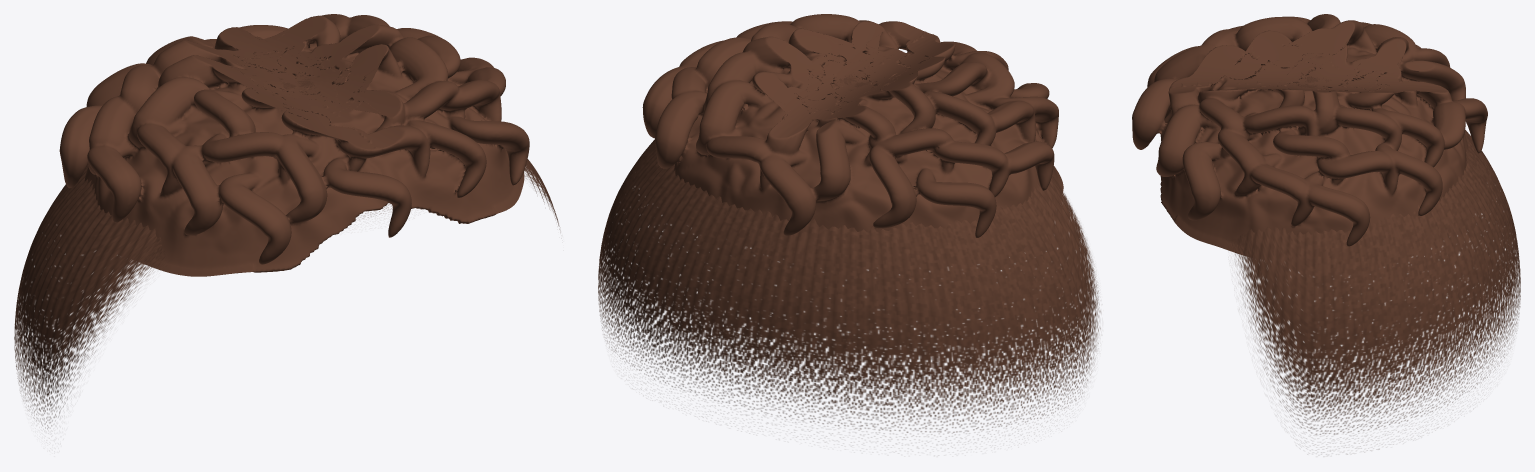
Rendered from Masculine-curly-top-cowboy256-hair.glb.
The picture shows the model from 3 angles, left to right: view 1: azimuth 30°, elevation 25°; view 2: azimuth 150°, elevation 25°; view 3: azimuth 270°, elevation 25°; orthographic projection. The views are drawn at different scales.
Visible parts, largest first — view 1: 226 hair / Hair252 / sculpted curl groups, 226 hair / Hair256 / selected B sides; view 2: 226 hair / Hair256 / selected B sides, 226 hair / Hair252 / sculpted curl groups; view 3: 226 hair / Hair252 / sculpted curl groups, 226 hair / Hair256 / selected B sides.
Part boxes in pixels (box(x1,y1,x2,y2)): 226 hair / Hair252 / sculpted curl groups: box(59, 14, 529, 276); 226 hair / Hair256 / selected B sides: box(14, 74, 560, 428); 226 hair / Hair256 / selected B sides: box(598, 74, 1100, 437); 226 hair / Hair252 / sculpted curl groups: box(642, 14, 1063, 237); 226 hair / Hair252 / sculpted curl groups: box(1132, 14, 1487, 256); 226 hair / Hair256 / selected B sides: box(1232, 75, 1520, 454).
Size of the model in its own units: 0.972 by 0.6416 by 0.7498.
Materials: 2 (1 with a texture image).
